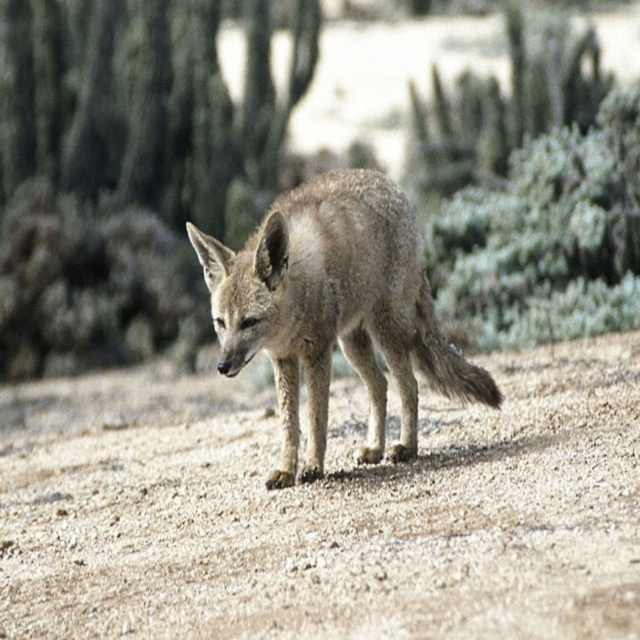Fox: (185, 167, 507, 489)
